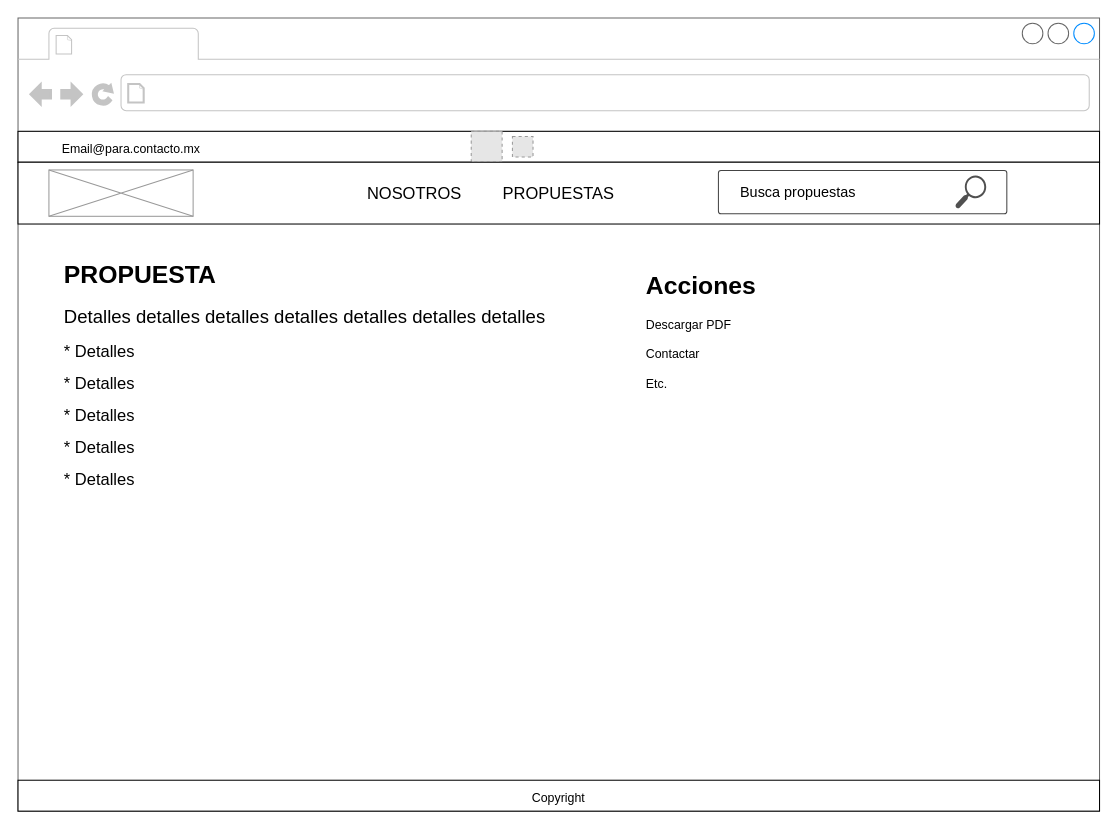
The diagram is 1118 pixels wide and 829 high, and some of its shapes have lost their labels. Grey dashed boxes stand in for pictures. The centre of each missing label's shape, as x and y in pixels:
Búsquedas: point 136,43
https://www.nuestraspropuestas.mx: point 280,93
